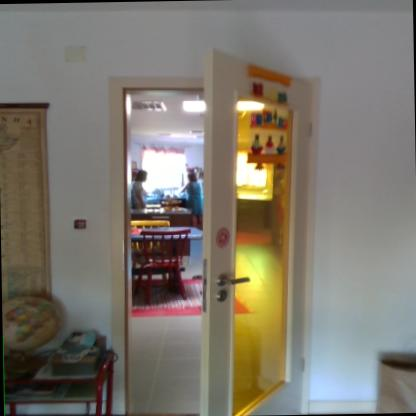semi: (100, 56, 322, 416)
